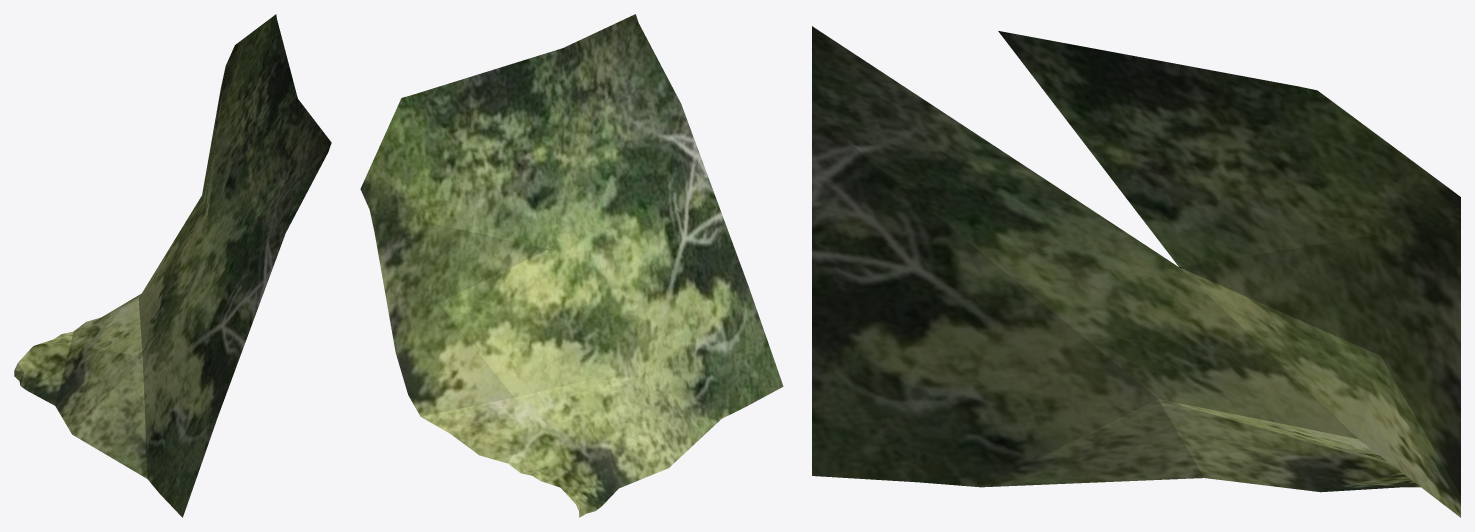
3 views of the same model, side by side, from view 1: azimuth 30°, elevation 25°; view 2: azimuth 150°, elevation 25°; view 3: azimuth 270°, elevation 25° (orthographic). The views are drawn at different scales.
Size of the model in its own units: 4.36 by 5.9 by 5.9.
4 materials, 4 textured.
